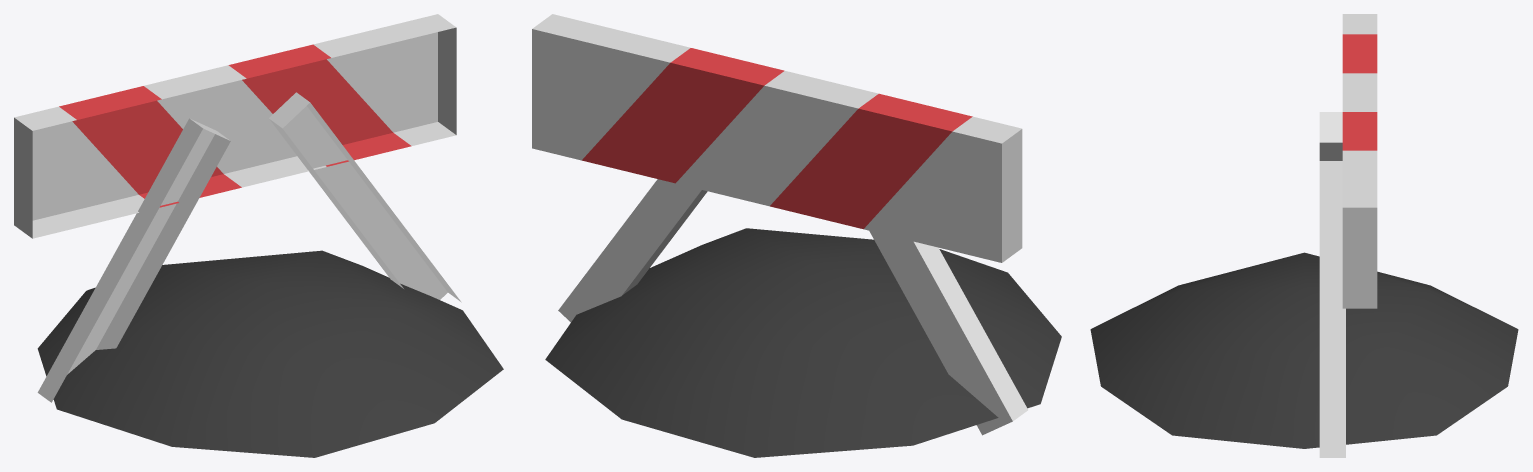
Rendered from sign.fbx.
3 renders of one model, left to right at view 1: azimuth 30°, elevation 25°; view 2: azimuth 150°, elevation 25°; view 3: azimuth 270°, elevation 25°, orthographic. The views are drawn at different scales.
Visible parts, largest first — view 1: Icosphere, Cube, Cube.001; view 2: Icosphere, Cube, Cube.001; view 3: Icosphere, Cube, Cube.001.
Boxes of the visible parts, box(x1,y1,x2,y2) form: Icosphere: box(37, 250, 503, 457); Cube: box(14, 14, 456, 238); Cube.001: box(37, 92, 461, 402); Icosphere: box(545, 228, 1061, 457); Cube: box(532, 14, 1022, 262); Cube.001: box(558, 179, 1027, 435); Icosphere: box(1090, 252, 1518, 448); Cube: box(1342, 14, 1377, 308); Cube.001: box(1319, 112, 1345, 457).
Size of the model in its own units: 529 by 338 by 494.
